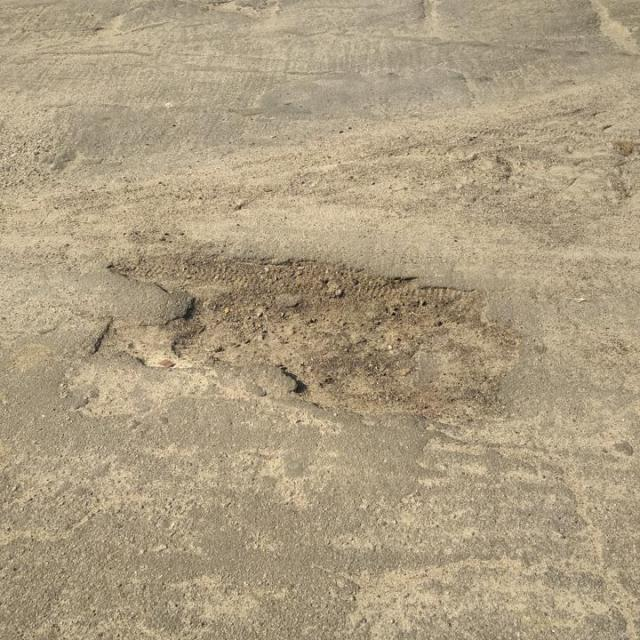pothole: (91, 243, 526, 427)
